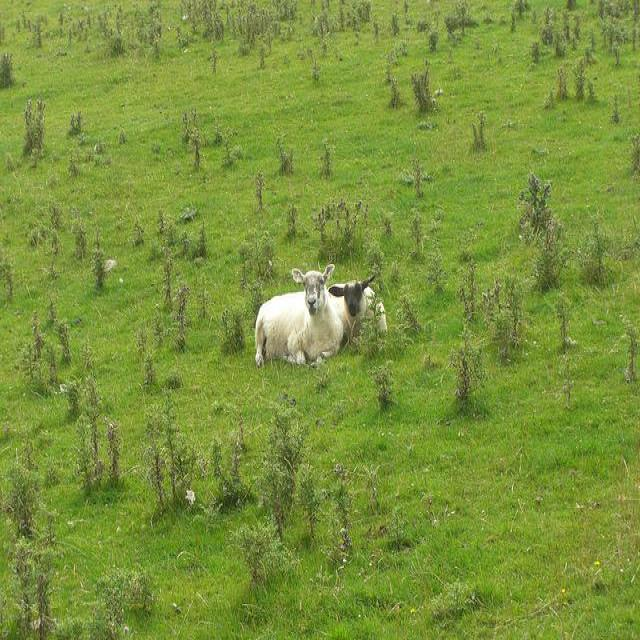Sheep: (252, 262, 351, 366), (328, 275, 387, 345)
